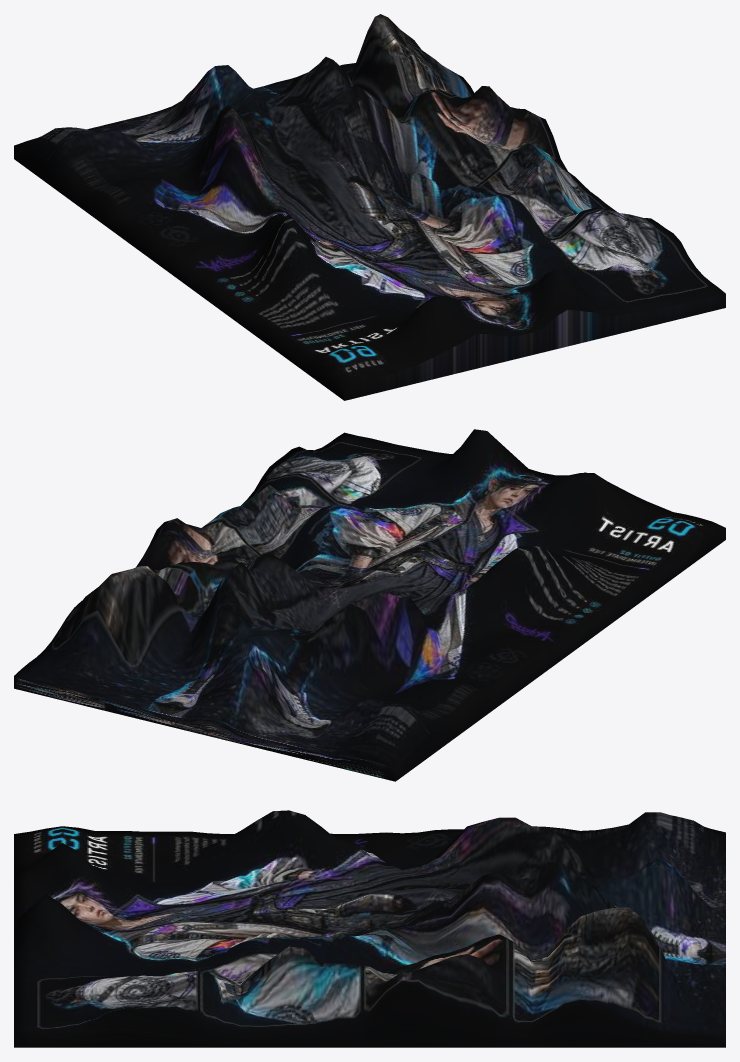
The model's file is CAREER_09_Outfit_02_Intermediate.glb.
The picture shows the model from 3 angles, top to bottom: view 1: azimuth 30°, elevation 25°; view 2: azimuth 150°, elevation 25°; view 3: azimuth 270°, elevation 25°; orthographic projection. The views are drawn at different scales.
Visible parts, largest first — view 1: CAREER_09_Outfit_02_Intermediate; view 2: CAREER_09_Outfit_02_Intermediate; view 3: CAREER_09_Outfit_02_Intermediate.
Boxes of the visible parts, x1=… form: CAREER_09_Outfit_02_Intermediate: x1=14, y1=14, x2=725, y2=400; CAREER_09_Outfit_02_Intermediate: x1=14, y1=429, x2=725, y2=781; CAREER_09_Outfit_02_Intermediate: x1=14, y1=810, x2=725, y2=1047.
Bounding box in the file's own units: 2 × 0.51 × 3.
1 material, 1 textured.
